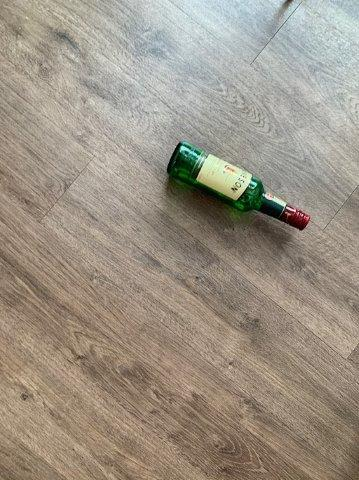botolkaca: (168, 141, 312, 229)
